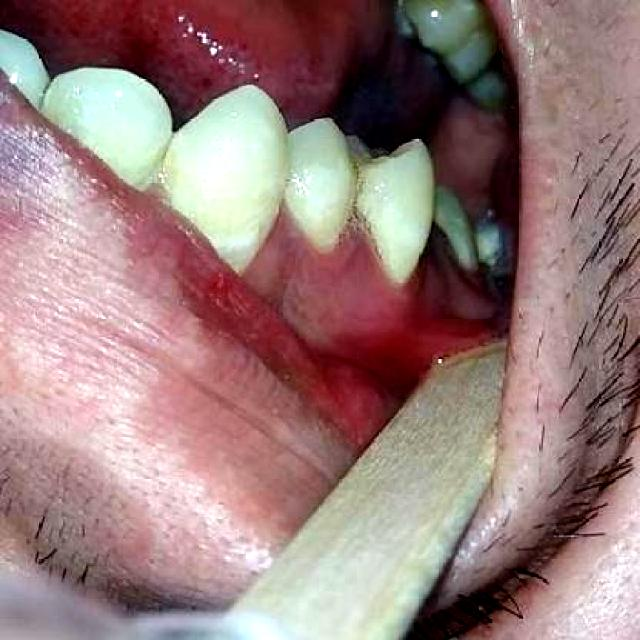Plaque: (254, 211, 425, 334)
